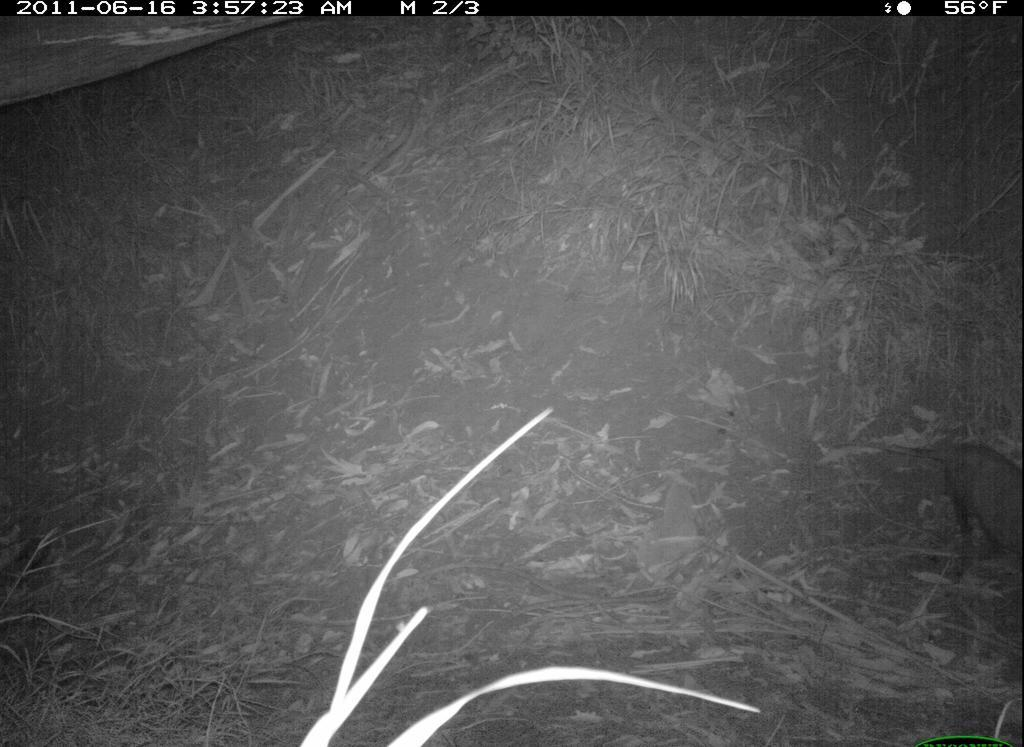opossum: (868, 400, 1023, 587)
